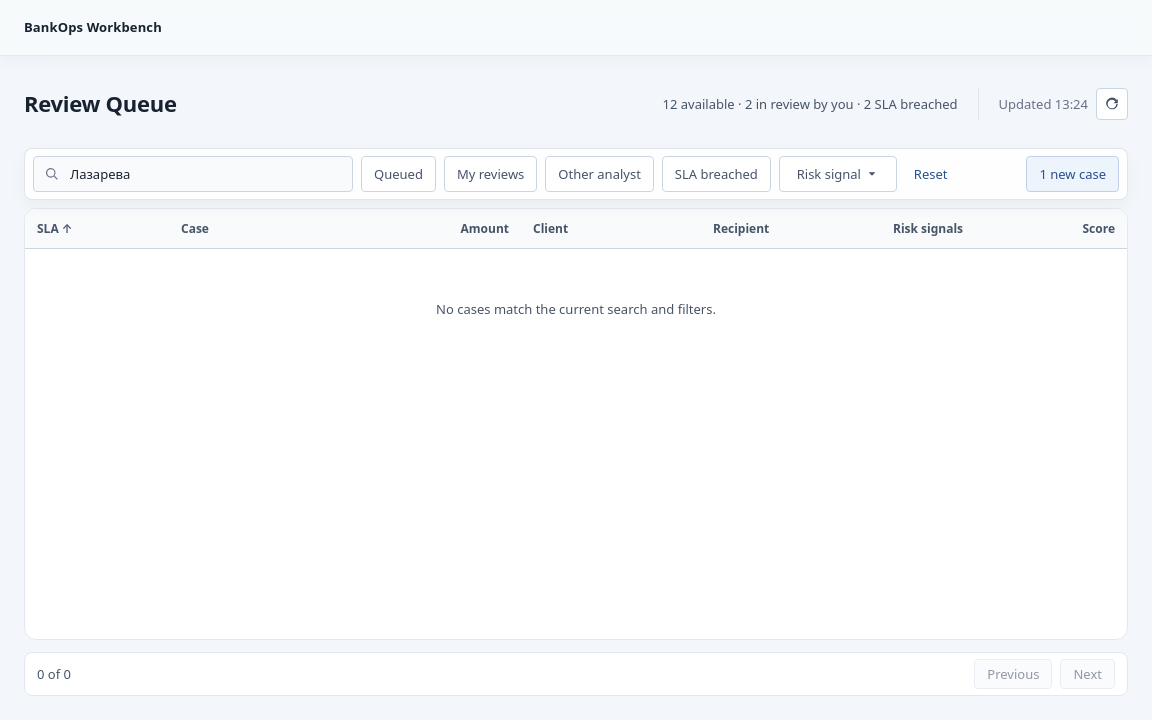
Test: Review Queue › includes an incoming case that matches the active search without clearing that search
Expected: the text "0 of 0" is shown, x1=37 y1=664 x2=71 y2=684
Click the button "1 new case".
click(1073, 174)  # box x1=1026 y1=156 x2=1119 y2=192
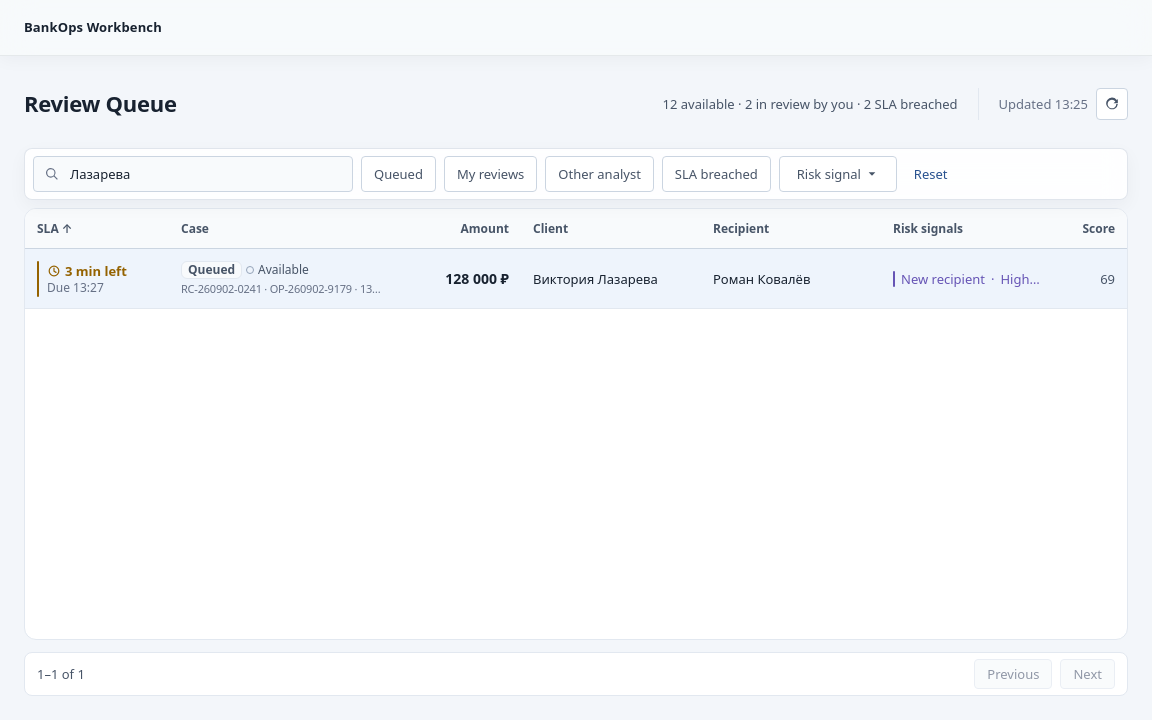
Expected: the search field holds "Лазарева", x1=33 y1=156 x2=353 y2=192
Now the text "1–1 of 1" is shown, box x1=37 y1=664 x2=85 y2=684
